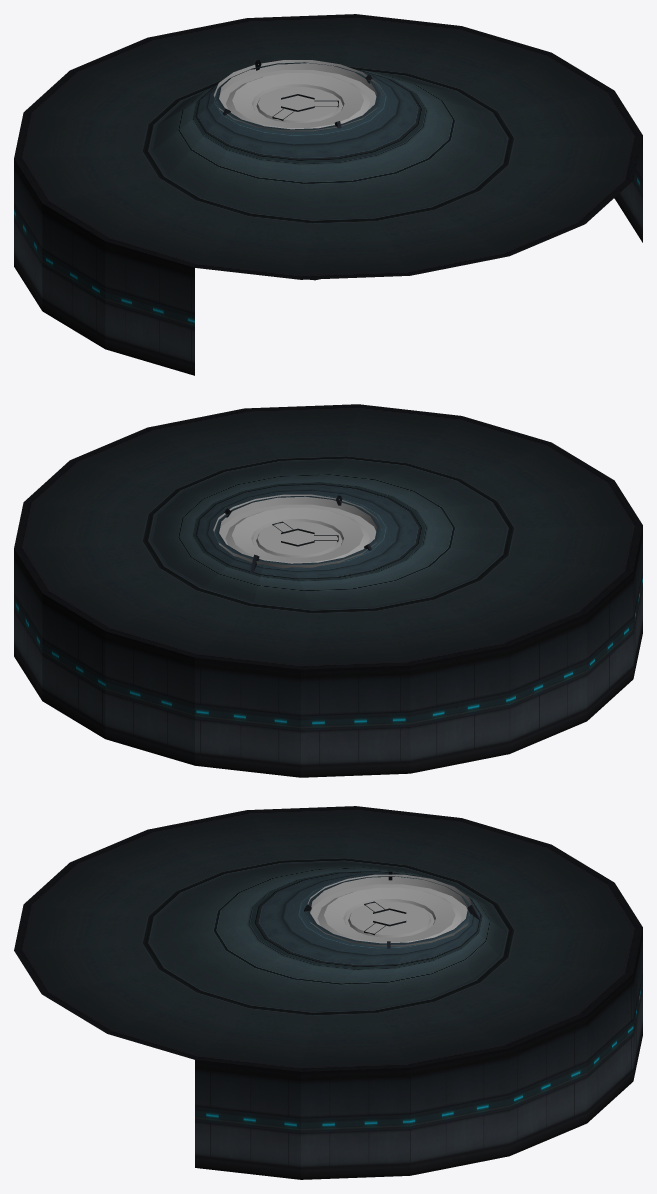
File: ts_tpnew.FBX
The picture shows the model from 3 angles, top to bottom: view 1: azimuth 30°, elevation 25°; view 2: azimuth 150°, elevation 25°; view 3: azimuth 270°, elevation 25°; orthographic projection.
Visible parts, largest first — view 1: ts_ntp_qb, ts_ntp_pym003, ts_cjdigug001; view 2: ts_ntp_qb, ts_ntp_pym003, ts_cjdigug001; view 3: ts_ntp_qb, ts_ntp_pym003, ts_cjdigug001.
Part boxes in pixels (x1,y1,x2,y2): ts_ntp_qb: (14, 14, 642, 375); ts_ntp_pym003: (213, 60, 382, 131); ts_cjdigug001: (226, 73, 370, 129); ts_ntp_qb: (14, 404, 642, 777); ts_ntp_pym003: (213, 494, 381, 573); ts_cjdigug001: (225, 507, 369, 563); ts_ntp_qb: (14, 806, 642, 1179); ts_ntp_pym003: (304, 871, 480, 948); ts_cjdigug001: (317, 887, 461, 943).
Size of the model in its own units: 21.03 by 5.24 by 21.03.
